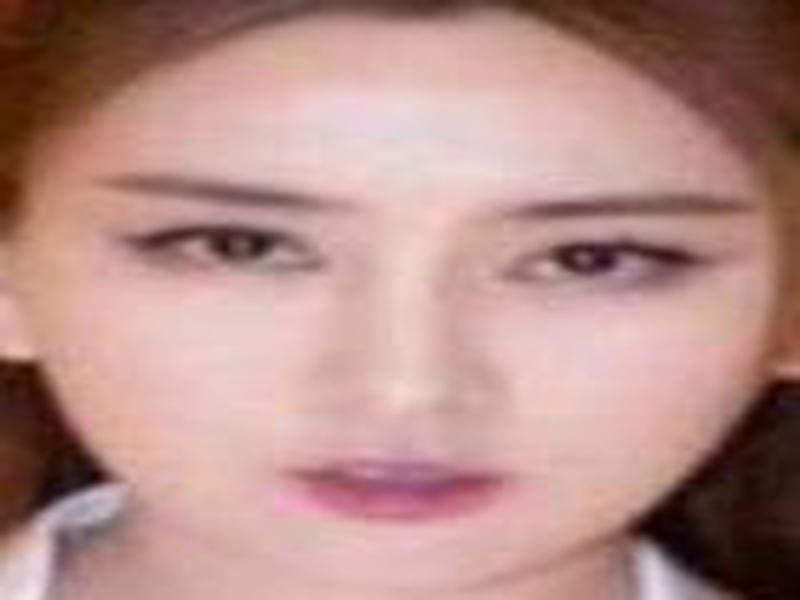without_mask: (33, 72, 759, 587)
